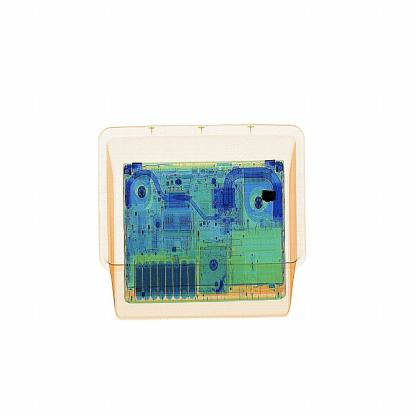scissors: (255, 181, 291, 212)
